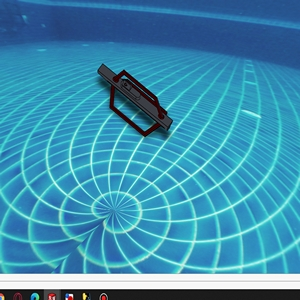submarine: (95, 59, 174, 134)
